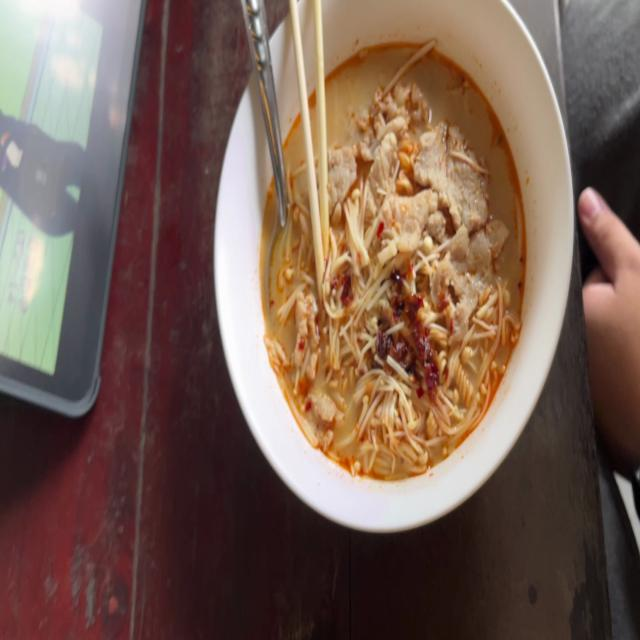noodle: (255, 26, 538, 490)
